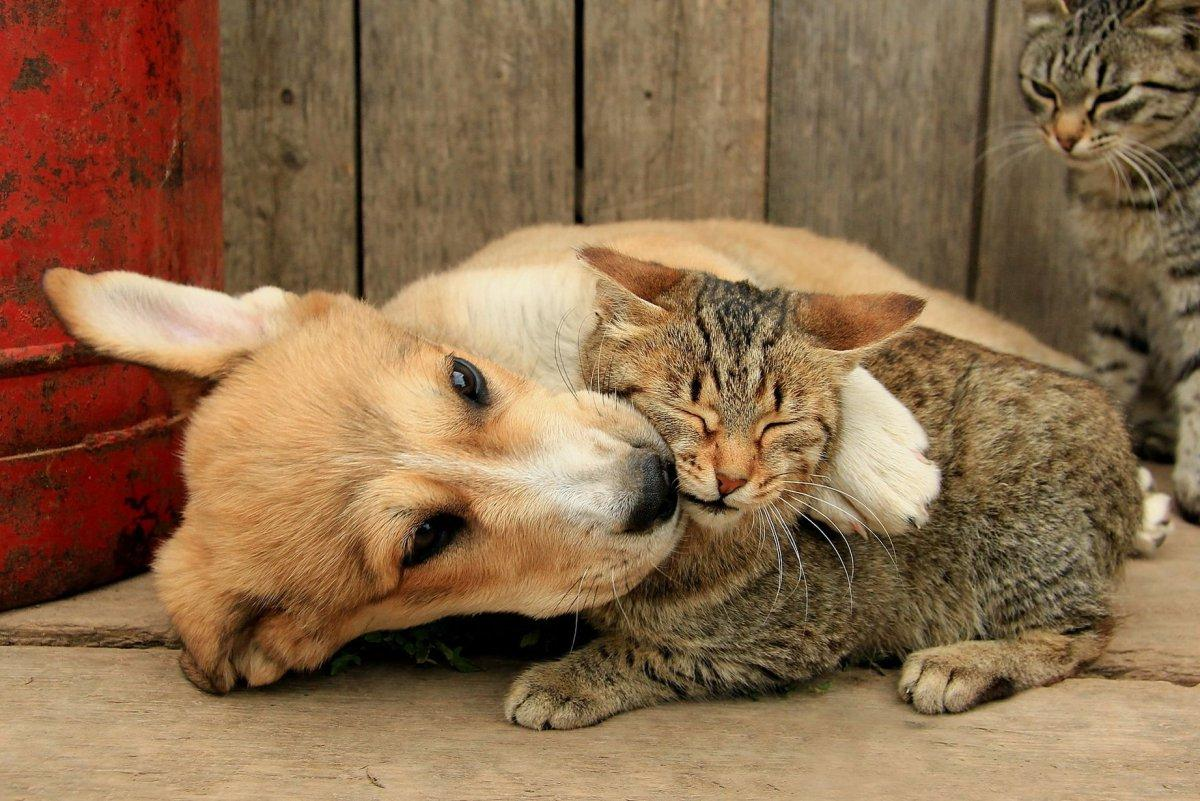animals: (0, 215, 642, 729), (522, 245, 1124, 755), (955, 3, 1200, 509)
